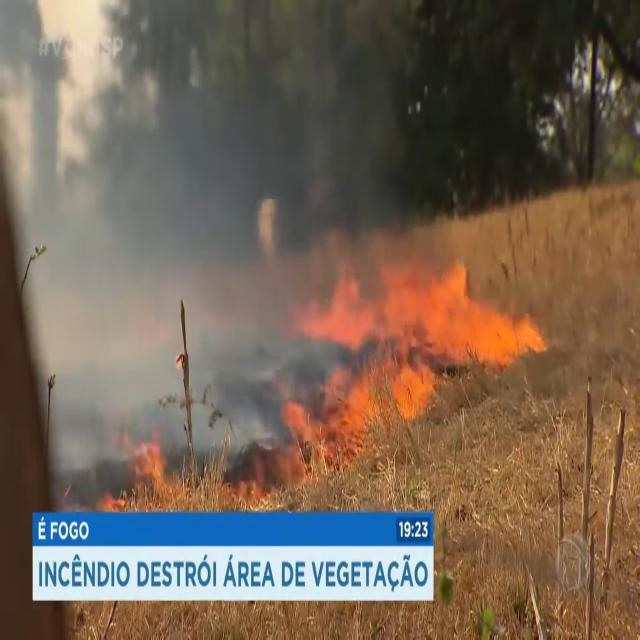Fire: (286, 242, 546, 454), (99, 426, 184, 508)
Smoke: (10, 1, 416, 450)
